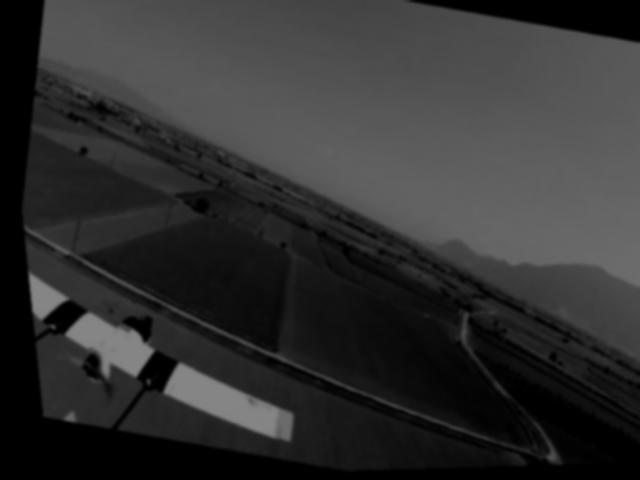hedef: (20, 245, 317, 469)
